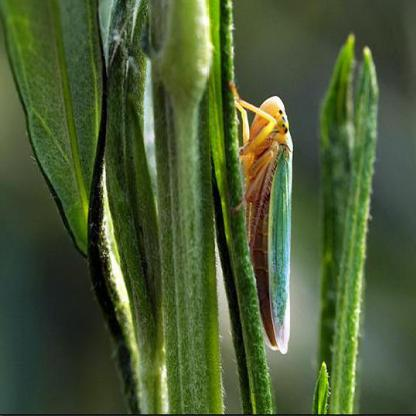Green-Leafhopper: (226, 72, 296, 370)
